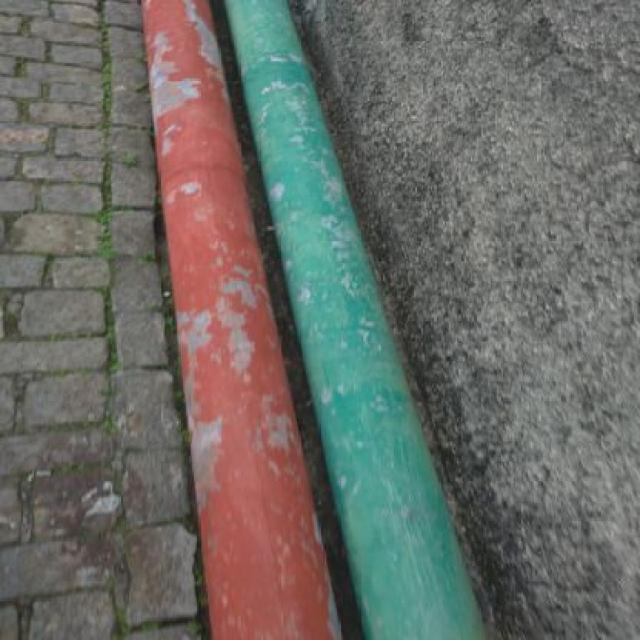gas: (226, 1, 490, 638), (138, 1, 343, 640)
